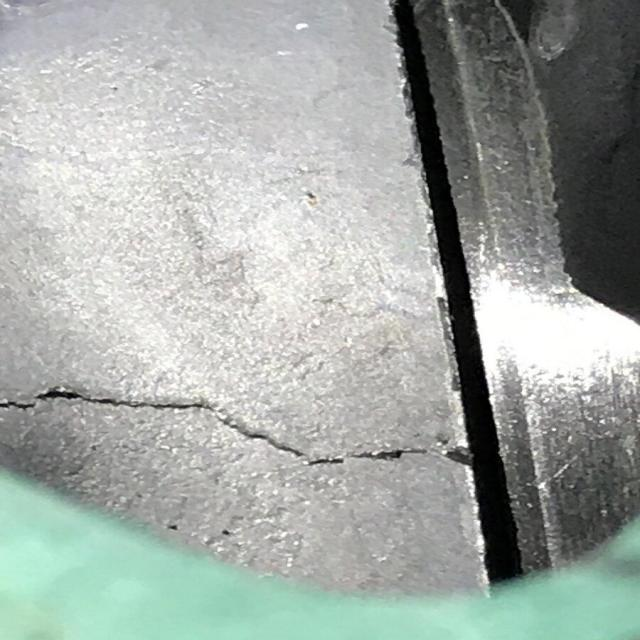defect: (1, 381, 470, 479)
